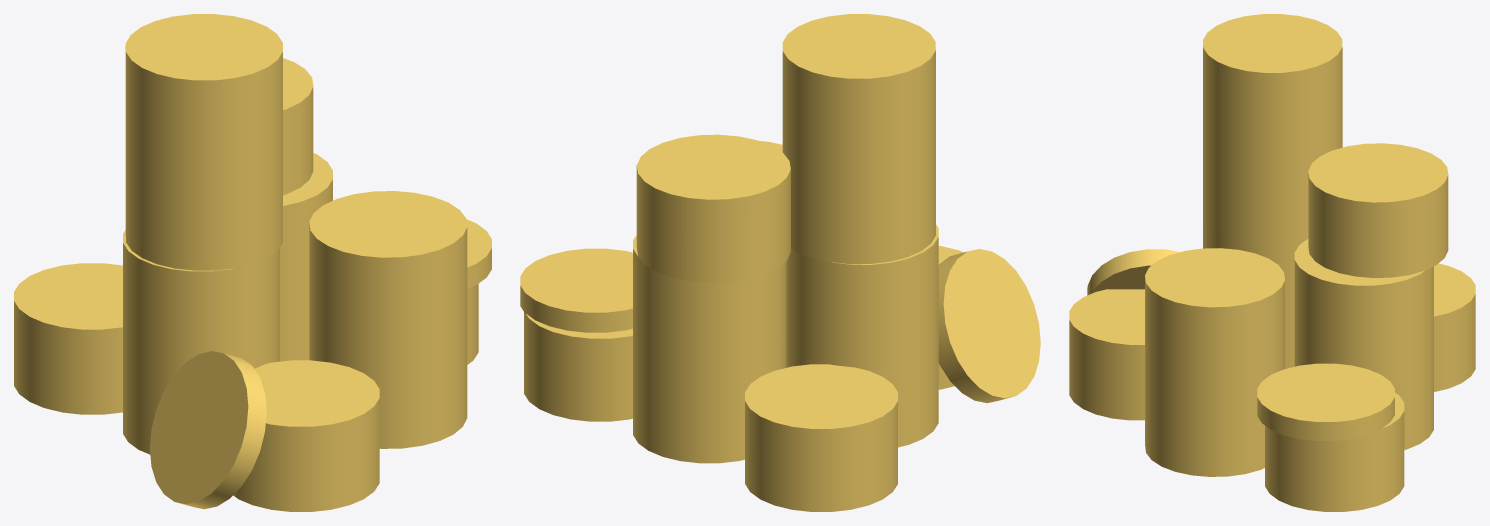
The model's file is SM_FW01_Coins_04.fbx.
3 views of the same model, side by side, from view 1: azimuth 30°, elevation 25°; view 2: azimuth 150°, elevation 25°; view 3: azimuth 270°, elevation 25° (orthographic). The views are drawn at different scales.
Parts seen in each view (by area): view 1: SM_FW01_Coins_04_LOD0; view 2: SM_FW01_Coins_04_LOD0; view 3: SM_FW01_Coins_04_LOD0.
Part boxes in pixels (x1,y1,x2,y2): SM_FW01_Coins_04_LOD0: (14, 14, 491, 511); SM_FW01_Coins_04_LOD0: (520, 14, 1040, 511); SM_FW01_Coins_04_LOD0: (1069, 14, 1475, 511).
Size of what is drawn, in the model's own units: 0.3303 by 0.2972 by 0.3185.
